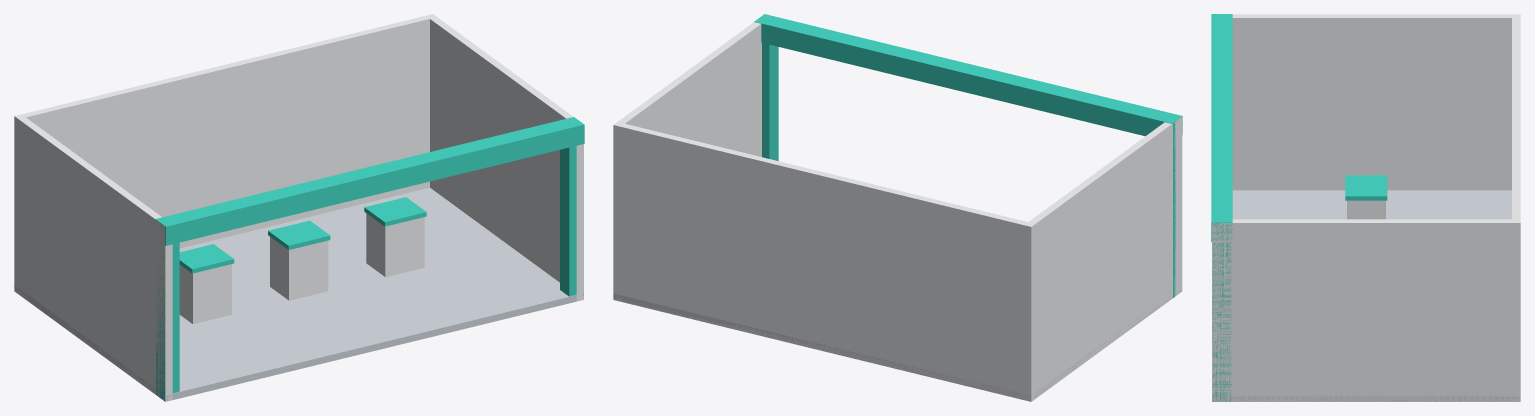
The picture shows the model from 3 angles, left to right: view 1: azimuth 30°, elevation 25°; view 2: azimuth 150°, elevation 25°; view 3: azimuth 270°, elevation 25°; orthographic projection. The views are drawn at different scales.
Parts seen in each view (by area): view 1: Exhibition Booth Concept; view 2: Exhibition Booth Concept; view 3: Exhibition Booth Concept.
Part boxes in pixels (bbox=[...]): Exhibition Booth Concept: bbox=[14, 14, 584, 401]; Exhibition Booth Concept: bbox=[613, 14, 1182, 401]; Exhibition Booth Concept: bbox=[1211, 14, 1520, 401].
Size of the model in its own units: 8 by 3.2 by 5.02.
